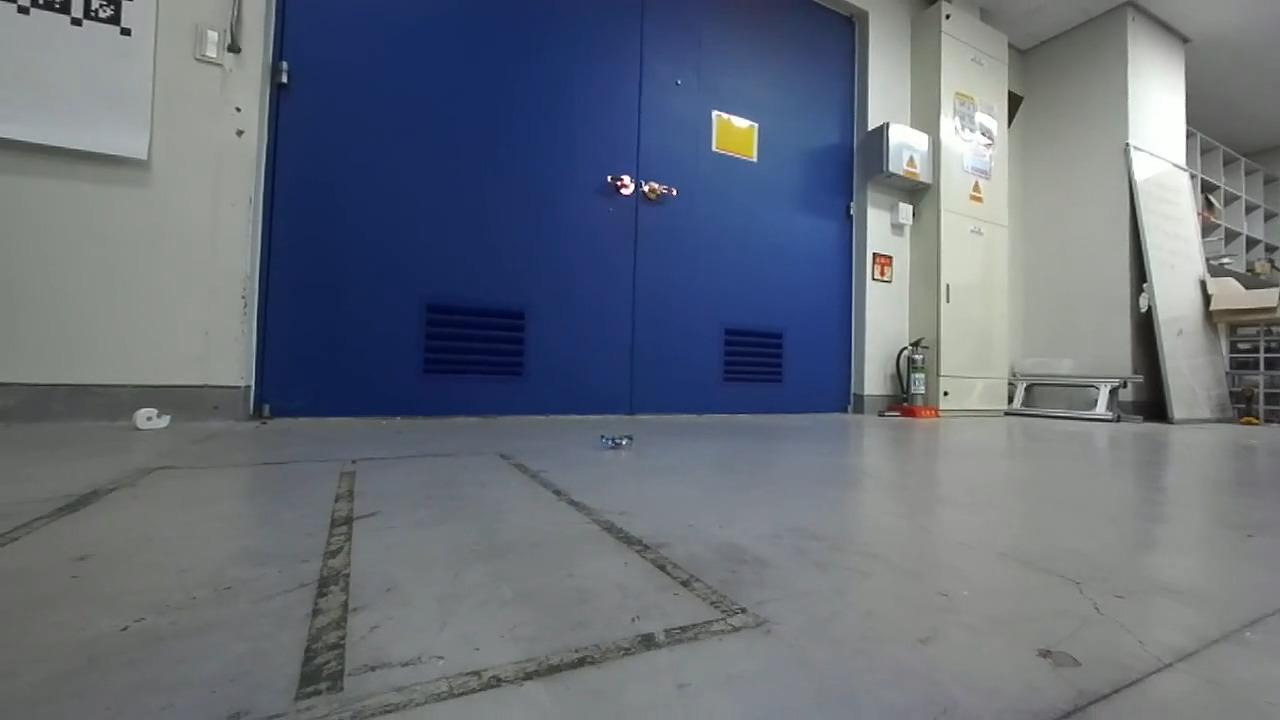crazyflie: (591, 428, 645, 454)
